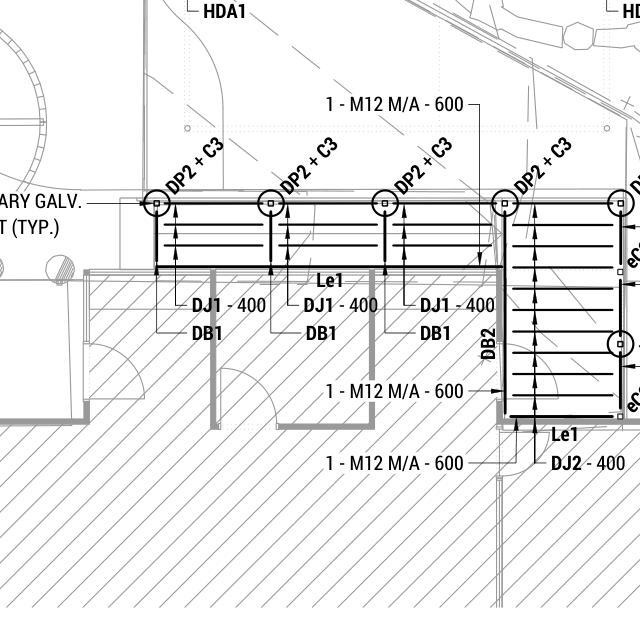C3: (427, 132, 463, 162), (547, 133, 577, 158), (195, 135, 222, 160), (311, 132, 339, 155)
DB1: (188, 318, 224, 343), (417, 322, 454, 346), (304, 323, 335, 346)
DB2: (475, 322, 502, 364)
DJ1: (414, 289, 454, 317), (186, 294, 221, 317), (302, 294, 335, 314)
DJ2: (546, 447, 591, 476)
DP2: (391, 161, 424, 196), (275, 161, 310, 193), (159, 160, 193, 192), (511, 167, 541, 196)
lE1: (547, 421, 584, 443)
